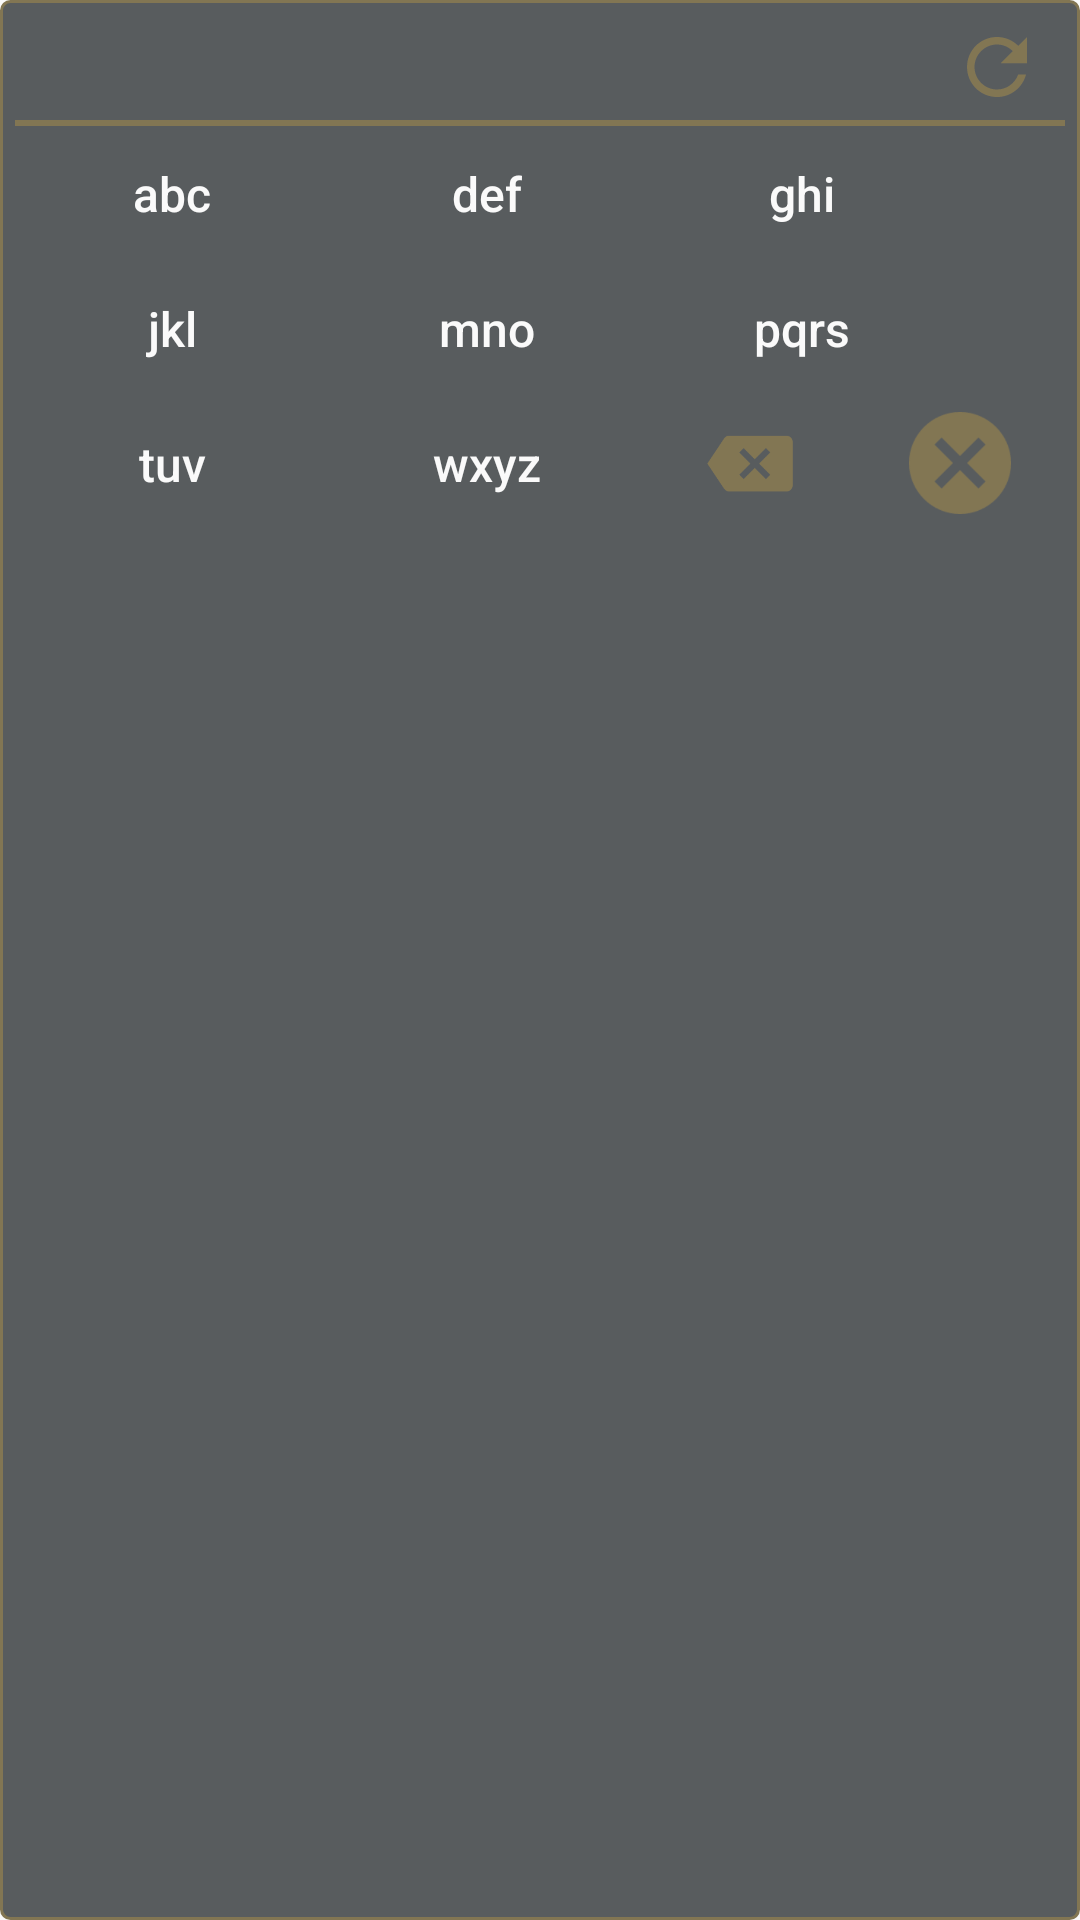

Screen size 1080 × 1920. Icon name, then its box in pixels as box=[x1, y1, x2, y2]:
backspace arrow: box=[708, 436, 793, 491]
cancel: box=[909, 412, 1011, 514]
refresh: box=[967, 37, 1027, 97]
